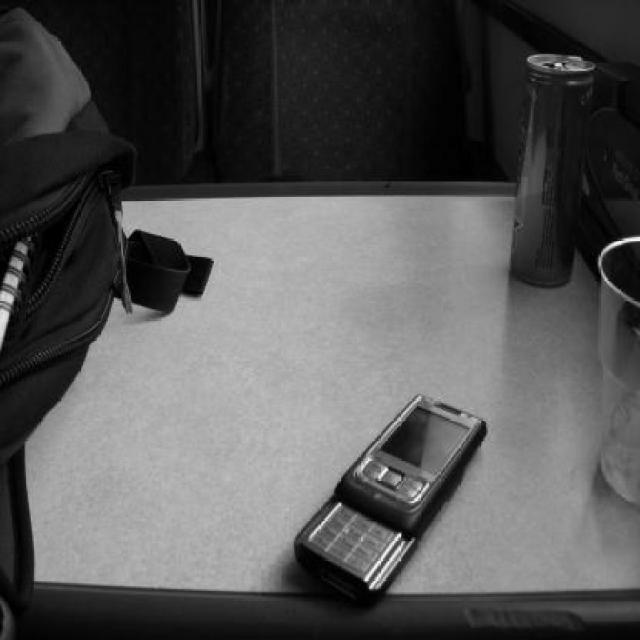fake: (286, 400, 492, 602)
